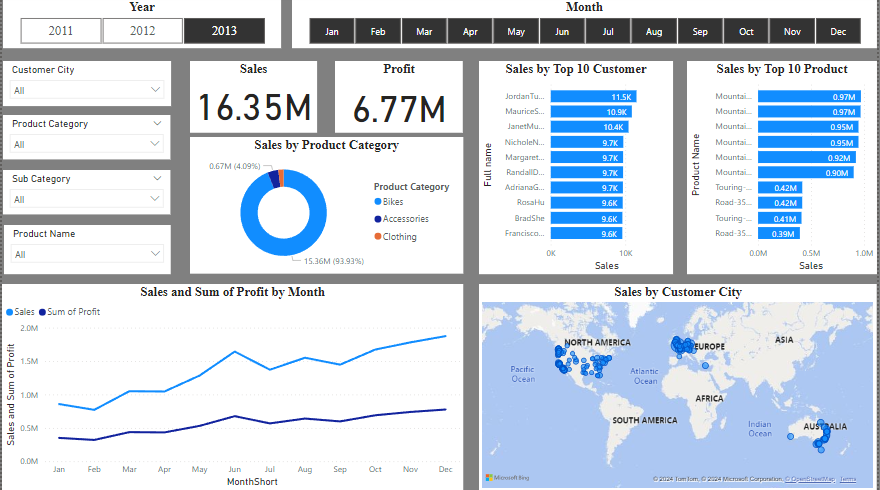

Layout of this report page (visuals, bound fields, positions):
{"tool":"powerbi","page":{"name":"OverView","canvas":[1280,720],"ordinal":0},"visuals":[{"type":"slicer","fields":{"Values":["DimCustomer.Customer City"]},"box":[1.5,90.7,245.9,65.9],"z":0},{"type":"slicer","fields":{"Values":["DimProduct.Product Category"]},"box":[1,170,245,65],"z":1000},{"type":"slicer","fields":{"Values":["DimProduct.Sub Category"]},"box":[1,250,245,65],"z":2000},{"type":"slicer","fields":{"Values":["DimProduct.Product Name"]},"box":[2.9,330.7,244.4,71.7],"z":3000},{"type":"lineChart","title":"Sales and Sum of Profit by Month","fields":{"Category":["DimDate.MonthShort"],"Y":["DimCustomer.Sales","FactInternetSales.Profit"]},"box":[0,417.1,674.6,302.9],"z":4000},{"type":"card","title":"Sales","fields":{"Values":["DimCustomer.Sales"]},"box":[275.1,90.7,185.9,105.4],"z":5000},{"type":"donutChart","fields":{"Category":["DimProduct.Product Category"],"Y":["DimCustomer.Sales"]},"box":[275.1,202,400,200.5],"z":6000},{"type":"barChart","title":"Sales by Top 10 Customer","fields":{"Category":["DimCustomer.Full name"],"Y":["DimCustomer.Sales"]},"box":[698,90.7,283.9,311.7],"z":7000},{"type":"barChart","title":"Sales by Top 10 Product","fields":{"Category":["DimProduct.Product Name"],"Y":["DimCustomer.Sales"]},"box":[1002.4,90.7,278,311.7],"z":8000},{"type":"map","fields":{"Category":["DimCustomer.Customer City"],"Size":["DimCustomer.Sales"]},"box":[698,417.1,582.4,302.9],"z":9000},{"type":"slicer","title":"Year","fields":{"Values":["DimDate.Year"]},"box":[1.5,0,406.8,71.7],"z":10000},{"type":"slicer","title":"Month","fields":{"Values":["DimDate.MonthShort"]},"box":[424.4,0,856.1,71.7],"z":11000},{"type":"card","title":"Profit","fields":{"Values":["FactInternetSales.Profit"]},"box":[487.3,90.7,187.3,105.4],"z":12000}]}

Visuals, with their boxes in screenshot pixels (x1, y1, x2, y2), scaled from the page's 1280x720 canvas onto the 880x490 screenshot:
slicer - DimCustomer.Customer City: box(1, 62, 170, 107)
slicer - DimProduct.Product Category: box(1, 116, 169, 160)
slicer - DimProduct.Sub Category: box(1, 170, 169, 214)
slicer - DimProduct.Product Name: box(2, 225, 170, 274)
"Sales and Sum of Profit by Month" lineChart: box(0, 284, 464, 489)
"Sales" card: box(189, 62, 317, 133)
donutChart - DimProduct.Product Category x DimCustomer.Sales: box(189, 137, 464, 274)
"Sales by Top 10 Customer" barChart: box(480, 62, 675, 274)
"Sales by Top 10 Product" barChart: box(689, 62, 879, 274)
map - DimCustomer.Customer City x DimCustomer.Sales: box(480, 284, 879, 489)
"Year" slicer: box(1, 0, 281, 49)
"Month" slicer: box(292, 0, 879, 49)
"Profit" card: box(335, 62, 464, 133)
